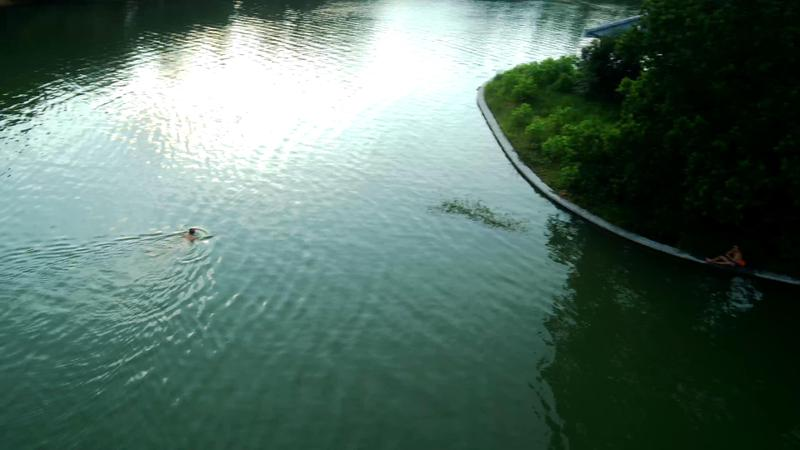sus_swimmers: (706, 244, 744, 266)
swimmers: (183, 227, 202, 243)
